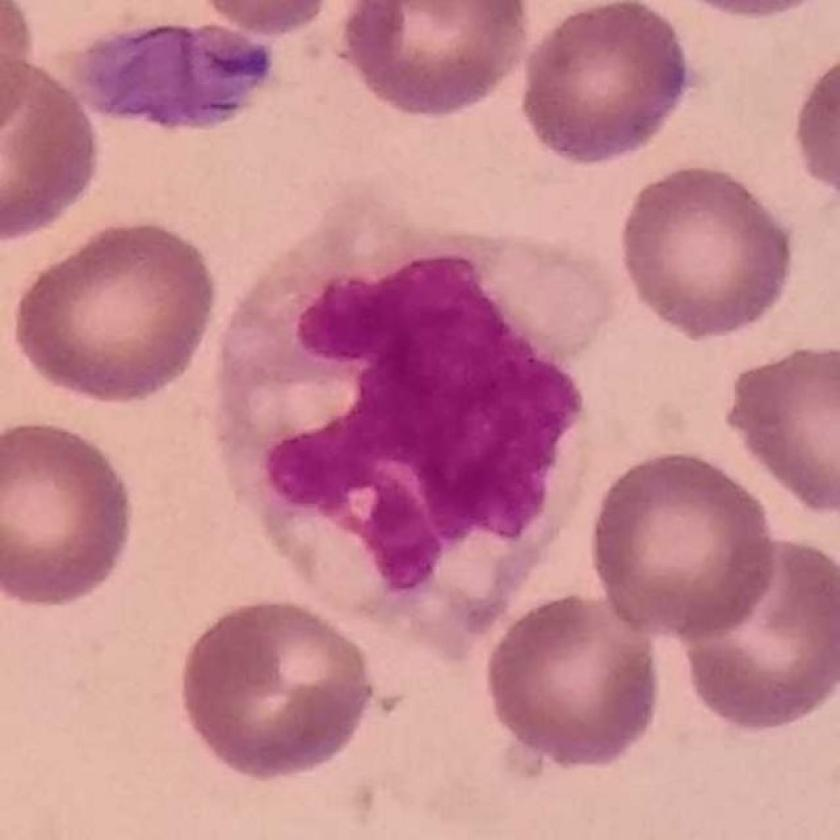monocyte: (207, 168, 628, 656)
